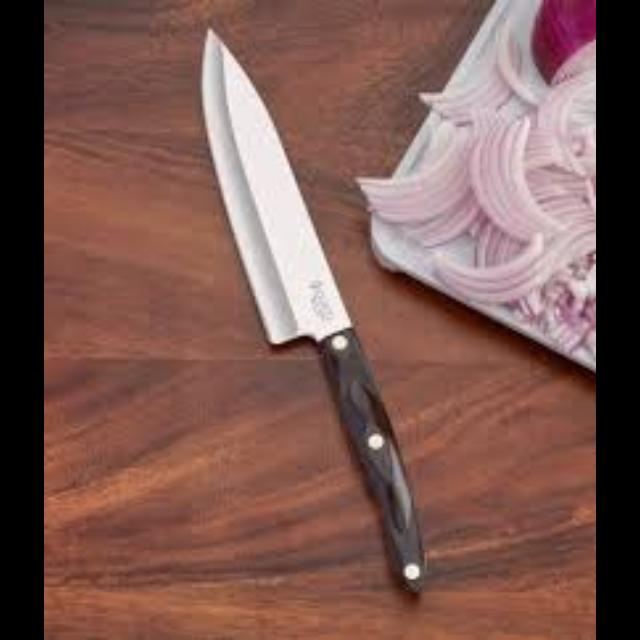knife: (198, 24, 424, 592)
